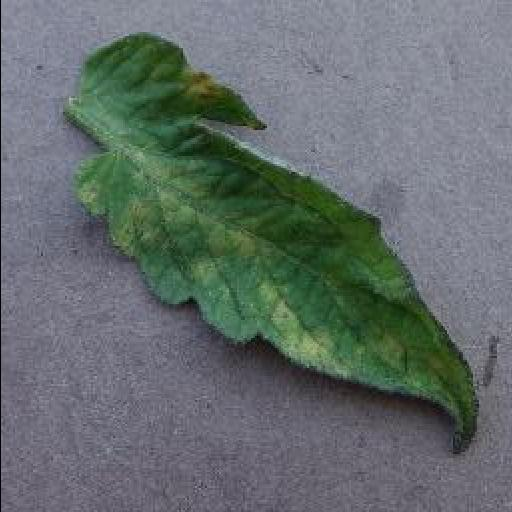disease_tomato: (68, 32, 478, 448)
